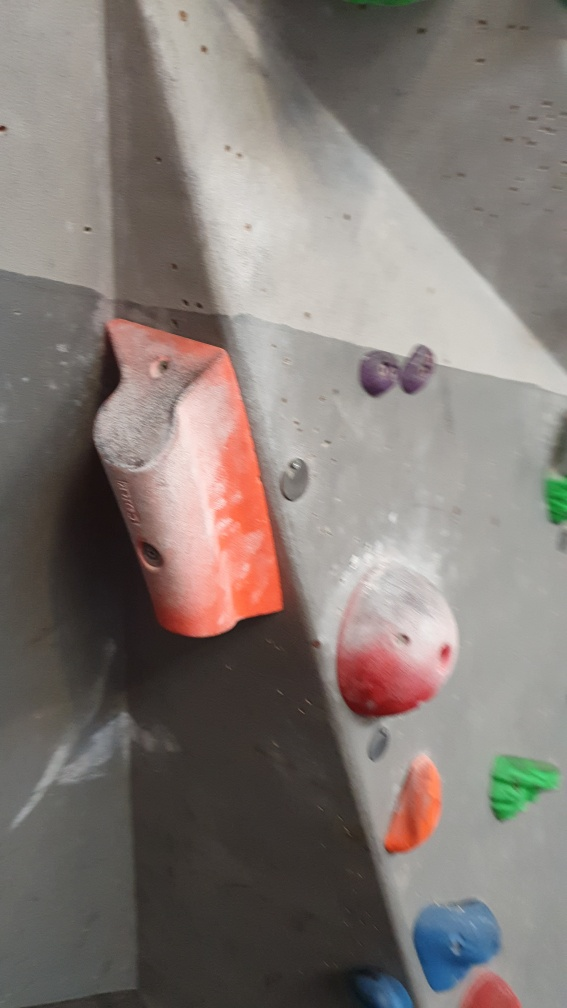Hand Start: (278, 448, 317, 511), (367, 726, 387, 759)
Pinch: (101, 314, 284, 642)
Sloper: (332, 555, 463, 719)
